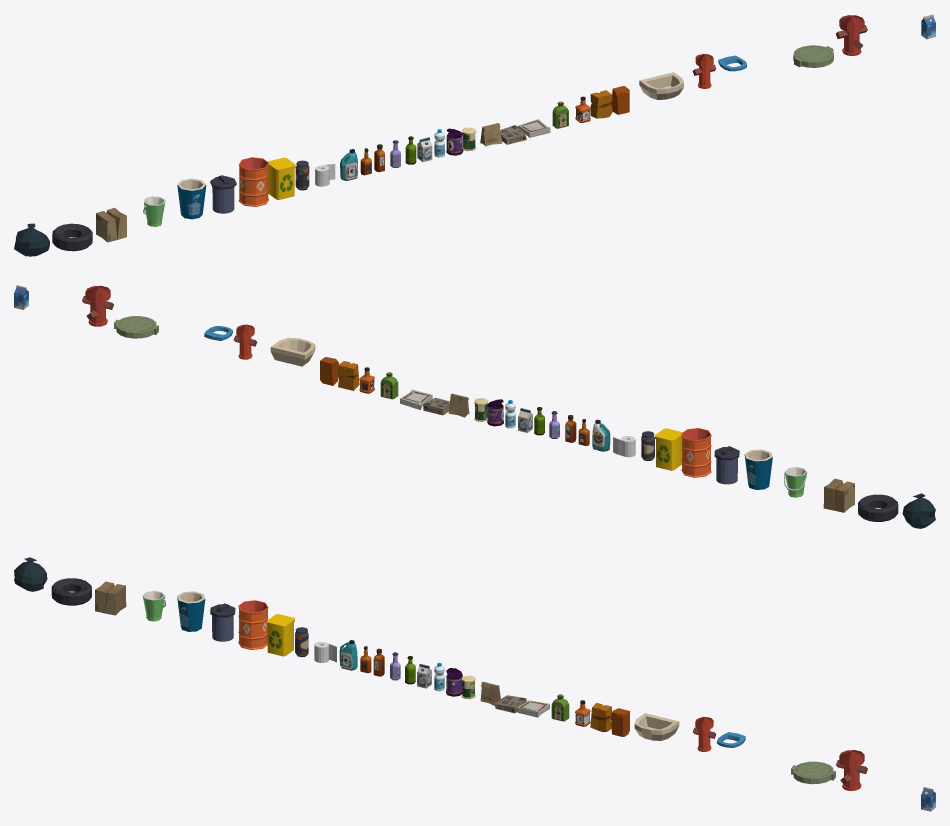
The model's file is GarbageForMap0Tutorial.fbx.
3 views of the same model, one above another, from view 1: azimuth 30°, elevation 25°; view 2: azimuth 150°, elevation 25°; view 3: azimuth 330°, elevation 25° (orthographic).
Visible parts, largest first — view 1: G17, G16, G19, G23, G31, G33, G22, G21, G18, G28, G26, G30 (+1 smaller); view 2: G17, G16, G31, G19, G23, G33, G22, G28, G21, G18, G20, G30 (+1 smaller); view 3: G17, G16, G19, G23, G31, G22, G33, G21, G28, G18, G20, G30 (+1 smaller).
Boxes of the visible parts, x1,y1,x2,y2 form: G17: (238, 157, 268, 206); G16: (268, 157, 295, 199); G19: (177, 178, 206, 219); G23: (52, 223, 92, 251); G31: (639, 72, 683, 99); G33: (836, 15, 867, 55); G22: (96, 207, 126, 242); G21: (14, 223, 49, 256); G18: (210, 175, 236, 213); G28: (793, 45, 833, 67); G26: (590, 90, 612, 118); G30: (692, 54, 716, 88); G17: (681, 428, 711, 477); G16: (655, 428, 682, 470); G31: (270, 337, 315, 366); G19: (744, 449, 772, 489); G23: (858, 494, 898, 521); G33: (82, 285, 113, 326); G22: (823, 478, 854, 512); G28: (114, 316, 158, 338); G21: (902, 493, 935, 528); G18: (714, 446, 739, 484); G20: (784, 467, 807, 497); G30: (233, 324, 257, 359); G17: (238, 600, 268, 649); G16: (266, 614, 294, 656); G19: (177, 591, 205, 631); G23: (51, 578, 91, 605); G31: (634, 713, 679, 740); G22: (95, 581, 126, 615); G33: (836, 750, 867, 790); G21: (14, 557, 47, 591); G28: (791, 761, 835, 784); G18: (210, 603, 235, 641); G20: (142, 590, 165, 621); G30: (693, 717, 716, 751).
Size of what is drawn, in the model's own units: 266 by 11.02 by 11.67.
